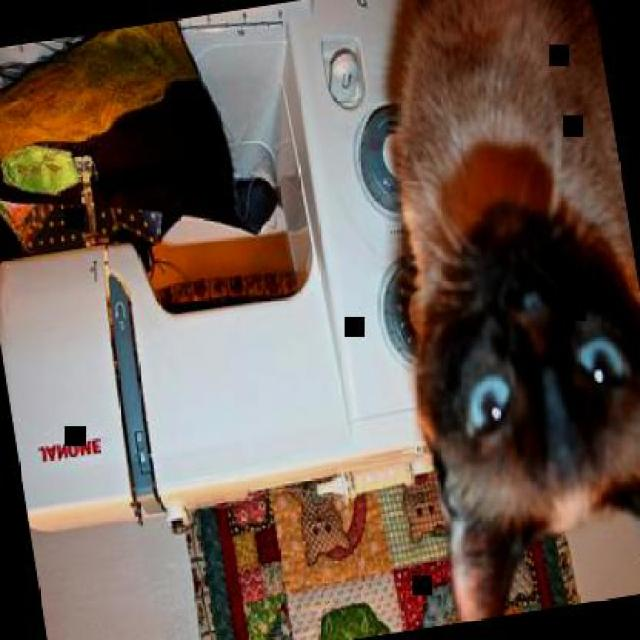cat: (352, 0, 638, 623)
